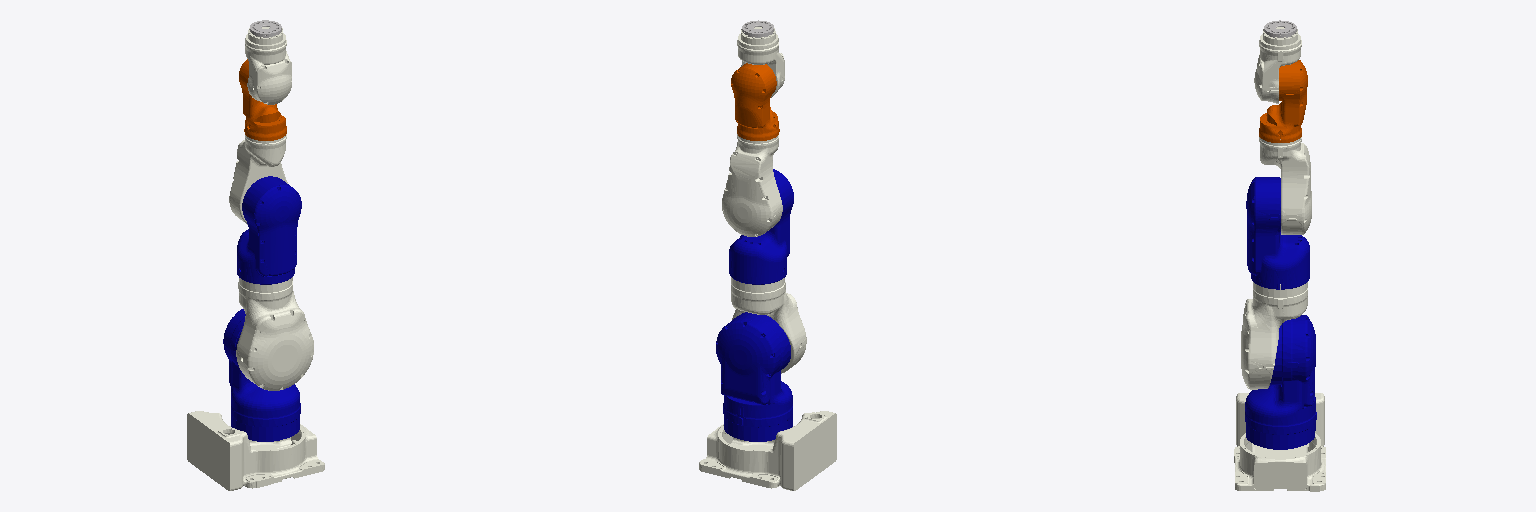
The robot description file, URDF, robot "sia20d":
<?xml version="1.0" ?>
<!-- =================================================================================== -->
<!-- |    This document was autogenerated by xacro from [local-path]/motoman/motoman_config/cfg/sia20d.xacro | -->
<!-- |    EDITING THIS FILE BY HAND IS NOT RECOMMENDED                                 | -->
<!-- =================================================================================== -->
<robot name="sia20d" xmlns:xacro="http://ros.org/wiki/xacro">
  <link name="Base">
    <visual>
      <geometry>
        <mesh filename="package://motoman_config/meshes/sia20d/visual/MOTOMAN_BASE.dae"/>
      </geometry>
    </visual>
    <collision>
      <geometry>
        <mesh filename="package://motoman_config/meshes/sia20d/collision/MOTOMAN_BASE.dae"/>
      </geometry>
    </collision>
  </link>
  <joint name="joint_S" type="revolute">
    <parent link="Base"/>
    <child link="Link_S"/>
    <origin xyz="0 0 0.41"/>
    <axis xyz="0 0 1"/>
    <limit effort="1000" lower="-3.142" upper="3.142" velocity="2.269"/>
  </joint>
  <link name="Link_S">
    <visual>
      <geometry>
        <mesh filename="package://motoman_config/meshes/sia20d/visual/MOTOMAN_AXIS_S.dae"/>
      </geometry>
    </visual>
    <collision>
      <geometry>
        <mesh filename="package://motoman_config/meshes/sia20d/collision/MOTOMAN_AXIS_S.dae"/>
      </geometry>
    </collision>
  </link>
  <joint name="joint_L" type="revolute">
    <parent link="Link_S"/>
    <child link="Link_L"/>
    <origin xyz="0 0 0"/>
    <axis xyz="0 1 0"/>
    <limit effort="1000" lower="-1.92" upper="1.92" velocity="2.269"/>
  </joint>
  <link name="Link_L">
    <visual>
      <geometry>
        <mesh filename="package://motoman_config/meshes/sia20d/visual/MOTOMAN_AXIS_L.dae"/>
      </geometry>
    </visual>
    <collision>
      <geometry>
        <mesh filename="package://motoman_config/meshes/sia20d/collision/MOTOMAN_AXIS_L.dae"/>
      </geometry>
    </collision>
  </link>
  <joint name="joint_E" type="revolute">
    <parent link="Link_L"/>
    <child link="Link_E"/>
    <origin xyz="0 0 0.49"/>
    <axis xyz="0 0 1"/>
    <limit effort="1000" lower="-2.967" upper="2.967" velocity="2.967"/>
  </joint>
  <link name="Link_E">
    <visual>
      <geometry>
        <mesh filename="package://motoman_config/meshes/sia20d/visual/MOTOMAN_AXIS_E.dae"/>
      </geometry>
    </visual>
    <collision>
      <geometry>
        <mesh filename="package://motoman_config/meshes/sia20d/collision/MOTOMAN_AXIS_E.dae"/>
      </geometry>
    </collision>
  </link>
  <joint name="joint_U" type="revolute">
    <parent link="Link_E"/>
    <child link="Link_U"/>
    <origin xyz="0 0 0"/>
    <axis xyz="0 -1 0"/>
    <limit effort="1000" lower="-2.269" upper="2.269" velocity="2.967"/>
  </joint>
  <link name="Link_U">
    <visual>
      <geometry>
        <mesh filename="package://motoman_config/meshes/sia20d/visual/MOTOMAN_AXIS_U.dae"/>
      </geometry>
    </visual>
    <collision>
      <geometry>
        <mesh filename="package://motoman_config/meshes/sia20d/collision/MOTOMAN_AXIS_U.dae"/>
      </geometry>
    </collision>
  </link>
  <joint name="joint_R" type="revolute">
    <parent link="Link_U"/>
    <child link="Link_R"/>
    <origin xyz="0 0 0.42"/>
    <axis xyz="0 0 -1"/>
    <limit effort="1000" lower="-3.142" upper="3.142" velocity="3.491"/>
  </joint>
  <link name="Link_R">
    <visual>
      <geometry>
        <mesh filename="package://motoman_config/meshes/sia20d/visual/MOTOMAN_AXIS_R.dae"/>
      </geometry>
    </visual>
    <collision>
      <geometry>
        <mesh filename="package://motoman_config/meshes/sia20d/collision/MOTOMAN_AXIS_R.dae"/>
      </geometry>
    </collision>
  </link>
  <joint name="joint_B" type="revolute">
    <parent link="Link_R"/>
    <child link="Link_B"/>
    <origin xyz="0 0 0"/>
    <axis xyz="0 -1 0"/>
    <limit effort="1000" lower="-1.92" upper="1.92" velocity="3.491"/>
  </joint>
  <link name="Link_B">
    <visual>
      <geometry>
        <mesh filename="package://motoman_config/meshes/sia20d/visual/MOTOMAN_AXIS_B.dae"/>
      </geometry>
    </visual>
    <collision>
      <geometry>
        <mesh filename="package://motoman_config/meshes/sia20d/collision/MOTOMAN_AXIS_B.dae"/>
      </geometry>
    </collision>
  </link>
  <joint name="joint_T" type="revolute">
    <parent link="Link_B"/>
    <child link="tool0"/>
    <origin xyz="0 0 0"/>
    <axis xyz="0 0 -1"/>
    <limit effort="1000" lower="-3.142" upper="3.142" velocity="6.981"/>
  </joint>
  <link name="tool0">
    <visual>
      <geometry>
        <mesh filename="package://motoman_config/meshes/sia20d/visual/MOTOMAN_AXIS_T.dae"/>
      </geometry>
    </visual>
    <collision>
      <geometry>
        <mesh filename="package://motoman_config/meshes/sia20d/collision/MOTOMAN_AXIS_T.dae"/>
      </geometry>
    </collision>
  </link>
</robot>

--- Facts derived from the render (not from the file) ---
3 views of the same robot in one strip: view 1: azimuth 30°, elevation 25°; view 2: azimuth 150°, elevation 25°; view 3: azimuth 270°, elevation 25° (orthographic).
Model sia20d with 8 links and 7 joints (7 revolute), rooted at Base, posed every joint at zero.
Links seen in each view (by area): view 1: Base, Link_L, Link_E, Link_S, Link_B, Link_U, Link_R; view 2: Link_S, Base, Link_U, Link_E, Link_R, Link_L, Link_B; view 3: Link_S, Link_E, Base, Link_L, Link_U, Link_R, Link_B.
Boxes of the visible links, x1,y1,x2,y2 form: Base: (187, 411, 324, 490); Link_L: (236, 277, 313, 390); Link_E: (237, 176, 301, 284); Link_S: (223, 309, 300, 441); Link_B: (245, 27, 291, 104); Link_U: (229, 134, 287, 224); Link_R: (239, 59, 286, 140); Link_S: (716, 312, 792, 441); Base: (699, 411, 836, 490); Link_U: (722, 134, 782, 236); Link_E: (729, 169, 793, 284); Link_R: (731, 63, 779, 140); Link_L: (731, 277, 806, 373); Link_B: (737, 27, 784, 97); Link_S: (1245, 315, 1316, 449); Link_E: (1246, 177, 1309, 289); Base: (1234, 393, 1325, 491); Link_L: (1241, 282, 1307, 389); Link_U: (1259, 137, 1311, 234); Link_R: (1259, 60, 1307, 142); Link_B: (1254, 27, 1301, 103).
Bounding box of the posed robot: 0.348 × 0.283 × 1.5 m (x, y, z).
8 mesh visuals loaded from 8 distinct referenced files (8 Collada DAE).
